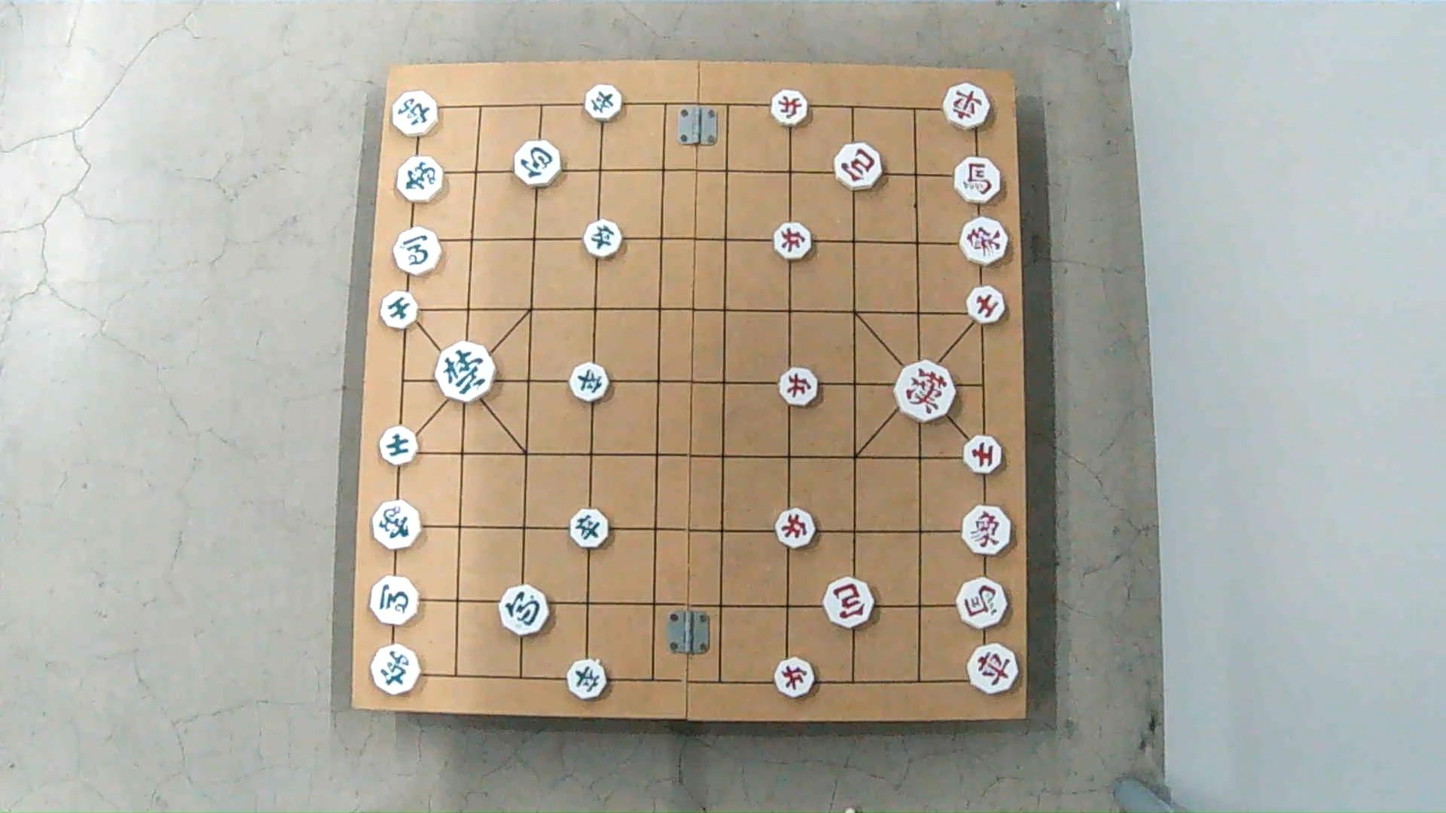cha_green: (372, 647, 424, 695), (389, 92, 440, 136)
cha_red: (966, 642, 1019, 695), (943, 84, 995, 126)
jol_green: (566, 662, 609, 699), (582, 221, 627, 256), (569, 512, 613, 547), (569, 364, 611, 400), (585, 87, 626, 120)
jol_red: (773, 660, 819, 700), (773, 510, 818, 547), (778, 370, 822, 403), (770, 89, 812, 121), (770, 224, 812, 256)
ma_green: (370, 577, 422, 624), (393, 231, 443, 274)
ma_red: (952, 577, 1010, 632), (955, 160, 1005, 204)
po_green: (498, 586, 552, 633), (511, 141, 562, 182)
po_red: (822, 580, 875, 626), (834, 144, 886, 190)
sa_green: (378, 291, 419, 327), (380, 429, 421, 465)
sa_red: (961, 432, 1006, 477), (963, 287, 1006, 321)
sang_green: (373, 501, 425, 547), (396, 156, 444, 203)
sang_red: (959, 502, 1014, 555), (959, 219, 1011, 263)
wang_green: (437, 344, 501, 400)
wang_red: (893, 366, 956, 421)
